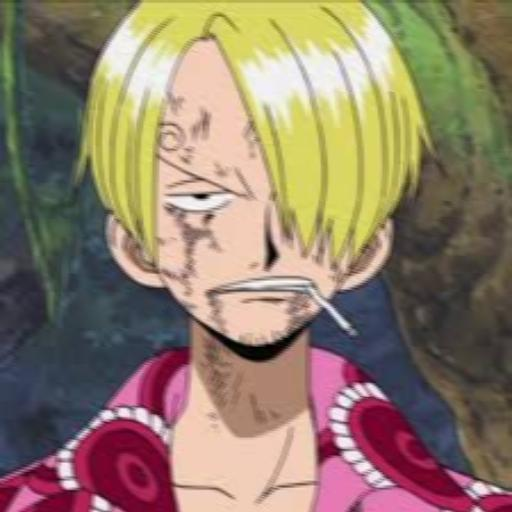sanji: (16, 0, 480, 512)
